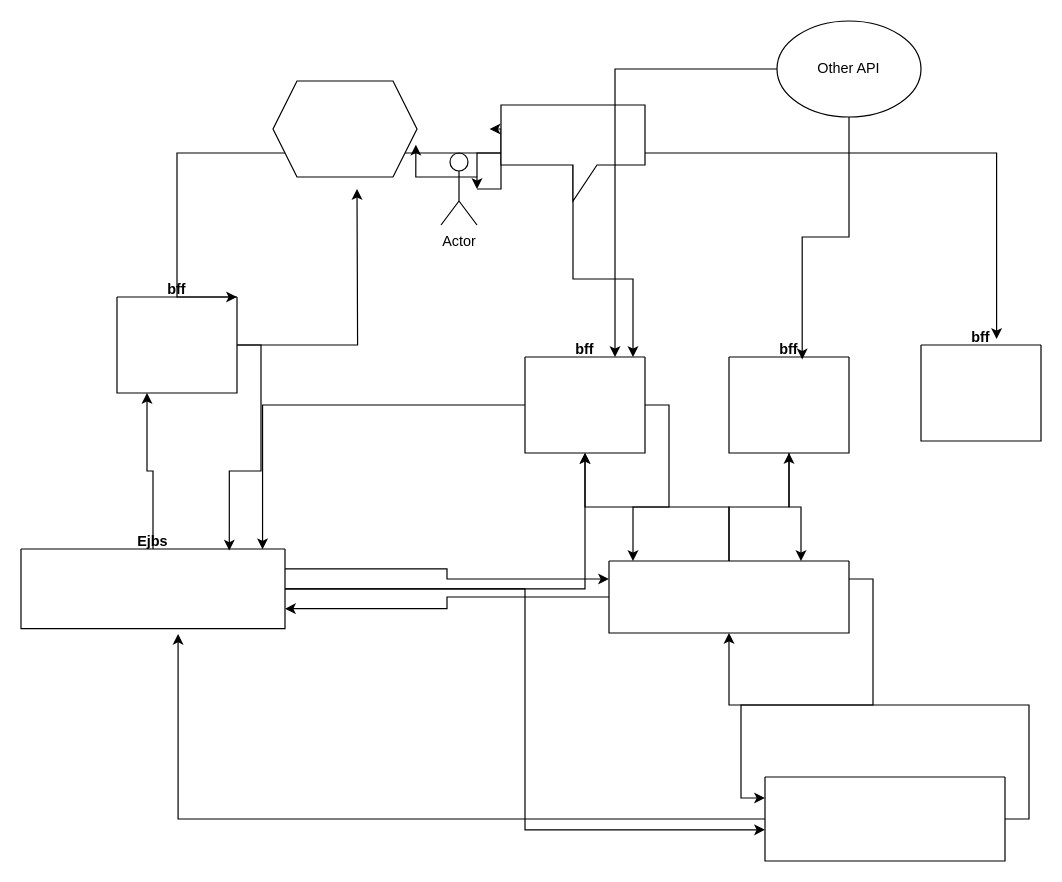
Image size: 1062x882. Some labels were removed from this diagram. The shapes that lost their labels are listed below. From the top down, each one's box as (x1, y1, x2, y2) in pixels, then its label:
(272, 80, 417, 177): Samsung > iPhone
(500, 104, 645, 201): Web Client
(608, 560, 849, 633): Microservices
(764, 776, 1005, 861): DBs
